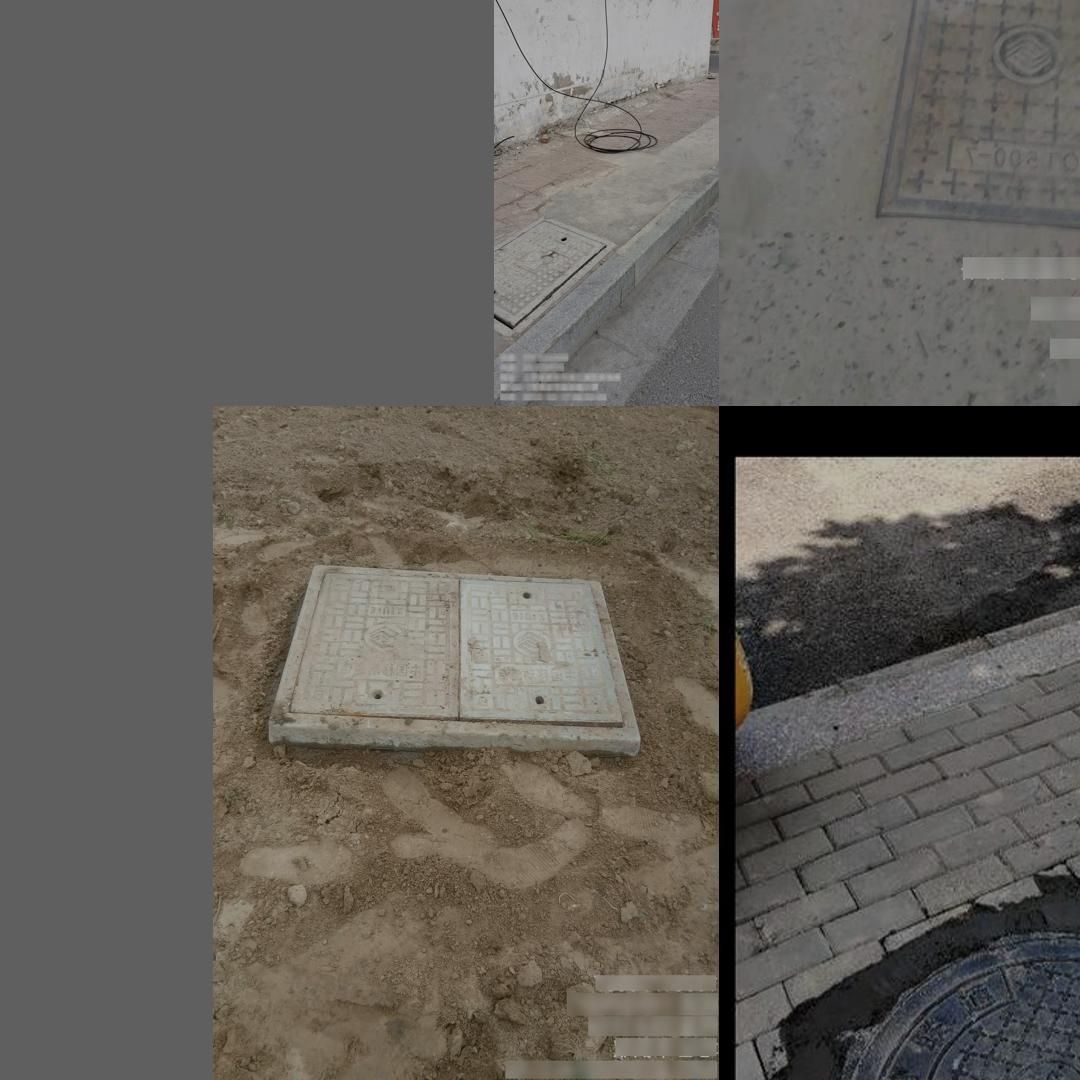good: (743, 862, 1080, 1080), (267, 564, 639, 734), (877, 0, 1080, 231), (494, 215, 615, 335)
